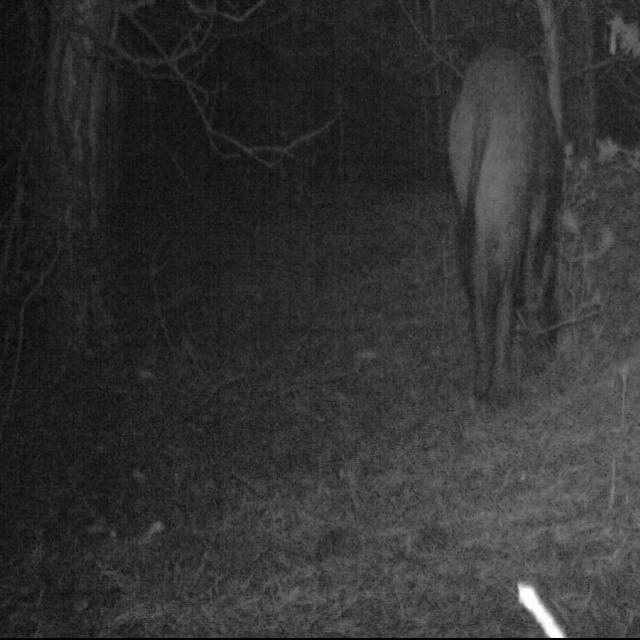pig: (454, 45, 577, 401)
